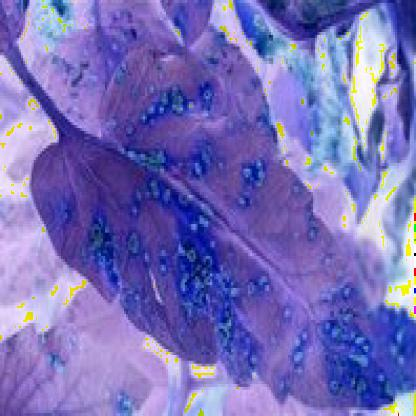Tomato Septoria leaf spot: (32, 47, 401, 404)
